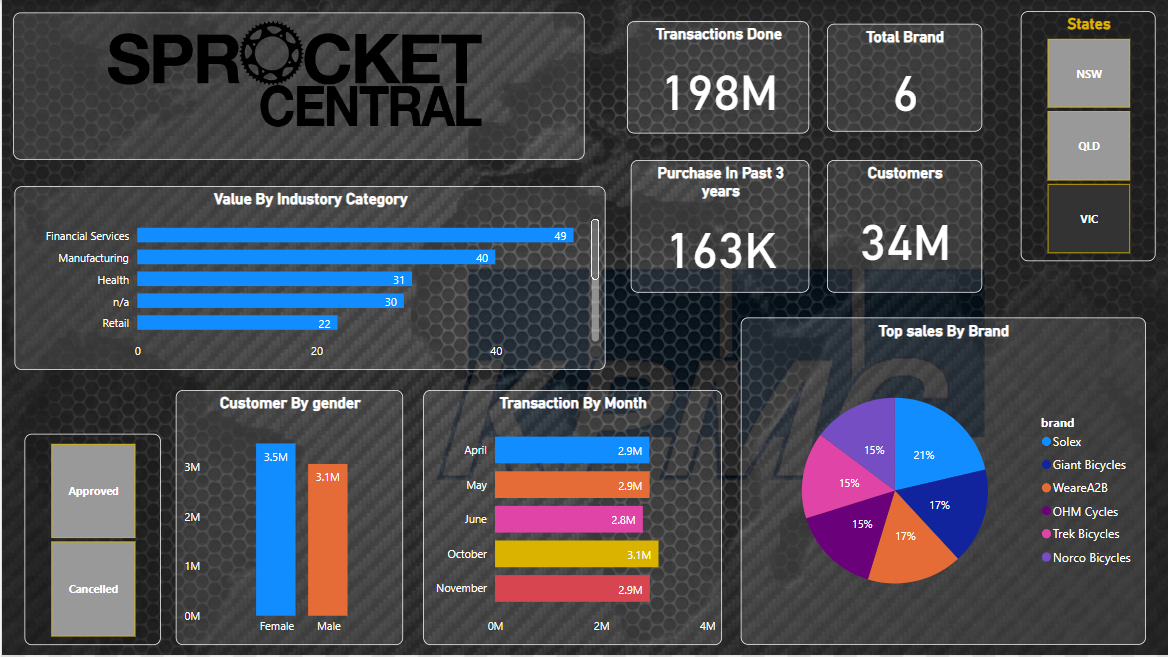

This screenshot's page, from the dashboard's own definition file:
{"tool":"powerbi","page":{"name":"Page 1","canvas":[1280,720],"ordinal":0},"visuals":[{"type":"clusteredColumnChart","title":"Customer By gender","fields":{"Category":["gender.gender"],"Y":["Sum(gender.customer_id)"]},"box":[190.7,428.1,249.7,279.9],"z":0},{"type":"barChart","title":"Transaction By Month","fields":{"Category":["Transactions.transaction_date.Variation.Date Hierarchy.Month"],"Y":["Sum(Transactions.customer_id)"]},"box":[462.4,428.1,328,279.9],"z":1000},{"type":"pieChart","title":"Top sales By Brand","fields":{"Category":["Transactions.brand"],"Y":["Sum(Transactions.customer_id)"]},"box":[811,348.5,444.6,359.5],"z":2000},{"type":"slicer","title":"States","fields":{"Values":["NewCustomerList.state"]},"box":[1118.4,12.3,148.2,274.4],"z":3000},{"type":"image","box":[12.3,13.7,627.1,161.9],"z":4000},{"type":"slicer","fields":{"Values":["Transactions.order_status"]},"box":[24.7,476.2,149.6,231.9],"z":5000},{"type":"card","title":"Customers","fields":{"Values":["Sum(Transactions.customer_id)"]},"box":[905.7,175.6,170.2,145.5],"z":6000},{"type":"card","title":"Transactions Done","fields":{"Values":["Sum(Transactions.transaction_id)"]},"box":[686.1,23.3,200.3,123.5],"z":7000},{"type":"card","title":"Total Brand","fields":{"Values":["Count(Transactions.brand)"]},"box":[905.7,26.1,170.2,118],"z":8000},{"type":"card","title":"Purchase In Past 3 years","fields":{"Values":["Sum(gender.past_3_years_bike_related_purchases)"]},"box":[690.2,175.6,196.2,145.5],"z":9000},{"type":"barChart","title":"Value By Industory Category","fields":{"Y":["Sum(NewCustomerList.Value)"],"Category":["NewCustomerList.job_industry_category"]},"box":[13.7,204.5,649.1,201.7],"z":10000}]}

Visuals, with their boxes in screenshot pixels (x1, y1, x2, y2), scaled from the page's 1280x720 canvas onto the 1168x657 screenshot:
"Customer By gender" clusteredColumnChart: <box>174,391,402,646</box>
"Transaction By Month" barChart: <box>422,391,721,646</box>
"Top sales By Brand" pieChart: <box>740,318,1146,646</box>
"States" slicer: <box>1021,11,1156,262</box>
image: <box>11,13,583,160</box>
slicer - Transactions.order_status: <box>23,435,159,646</box>
"Customers" card: <box>826,160,982,293</box>
"Transactions Done" card: <box>626,21,809,134</box>
"Total Brand" card: <box>826,24,982,131</box>
"Purchase In Past 3 years" card: <box>630,160,809,293</box>
"Value By Industory Category" barChart: <box>13,187,605,371</box>
